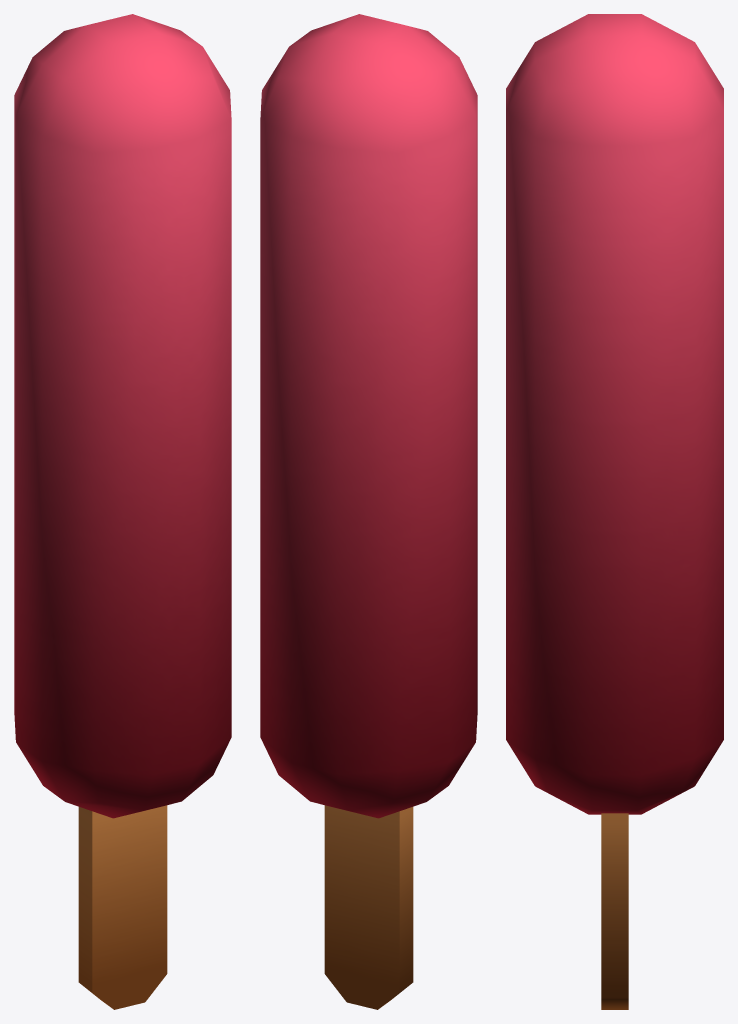
The model's file is m_PopsicleStick07.fbx.
3 renders of one model, left to right at view 1: azimuth 30°, elevation 25°; view 2: azimuth 150°, elevation 25°; view 3: azimuth 270°, elevation 25°, orthographic.
Visible parts, largest first — view 1: m_PopsicleStick07; view 2: m_PopsicleStick07; view 3: m_PopsicleStick07.
Part boxes in pixels (x1,y1,x2,y2): m_PopsicleStick07: [14, 14, 231, 1009]; m_PopsicleStick07: [260, 14, 477, 1009]; m_PopsicleStick07: [506, 14, 723, 1009].
Bounding box in the file's own units: 4.64 × 22.99 × 4.64.
